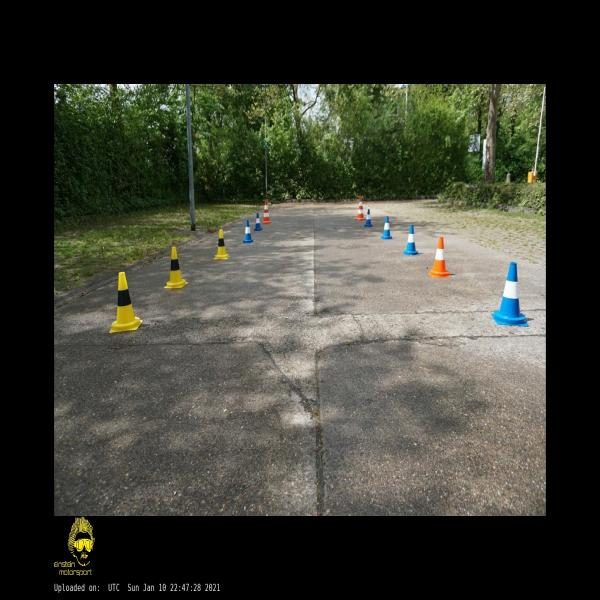blue_cone: (491, 262, 529, 326), (403, 224, 418, 256), (242, 219, 253, 244), (381, 216, 392, 239), (254, 212, 262, 231), (364, 209, 372, 227)
large_orange_cone: (262, 199, 271, 224), (356, 197, 365, 220)
orange_cone: (429, 236, 449, 278)
yellow_cone: (110, 272, 142, 333), (164, 246, 188, 288), (214, 229, 229, 259)
